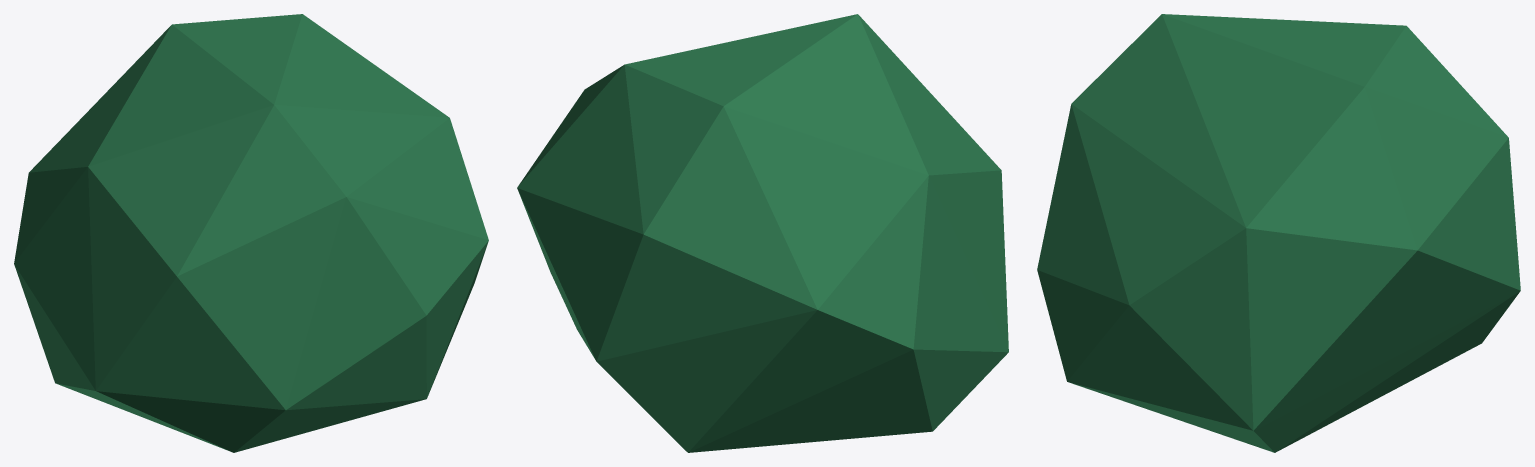
The model's file is floresta_bush_small.glb.
3 views of the same model, side by side, from view 1: azimuth 30°, elevation 25°; view 2: azimuth 150°, elevation 25°; view 3: azimuth 270°, elevation 25° (orthographic). The views are drawn at different scales.
Visible parts, largest first — view 1: Bush small f; view 2: Bush small f; view 3: Bush small f.
Part boxes in pixels (<box>): Bush small f: <box>14,14,488,452</box>; Bush small f: <box>517,14,1008,452</box>; Bush small f: <box>1037,14,1520,452</box>.
Size of the model in its own units: 1.72 by 1.36 by 1.66.
